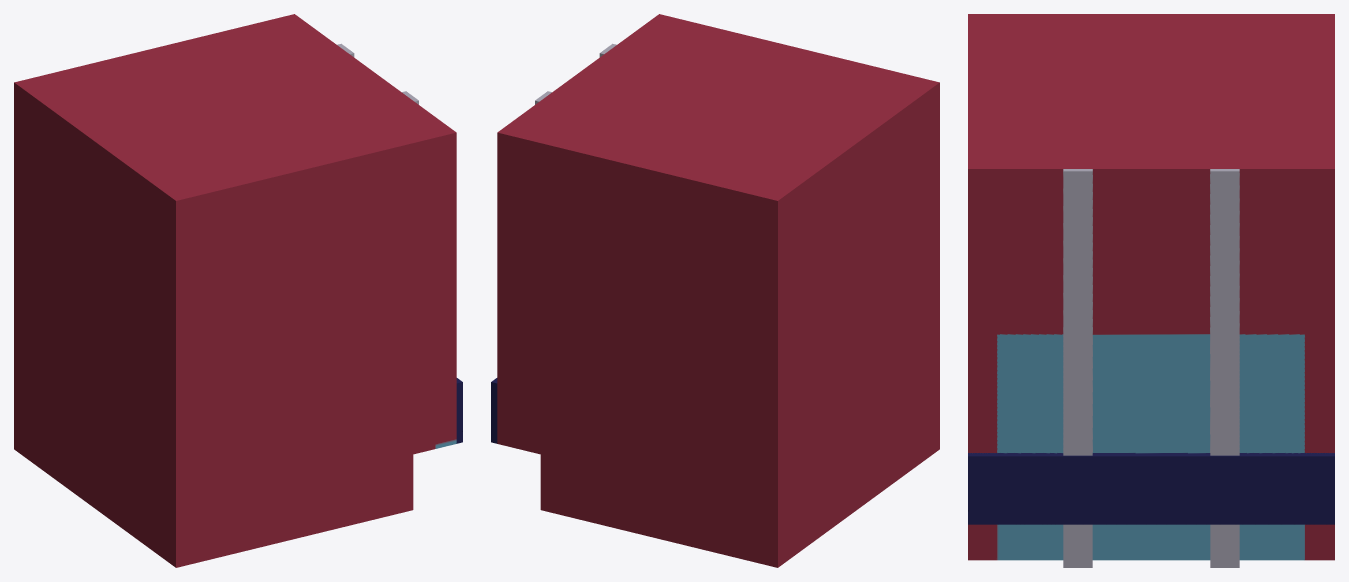
Rendered from Edificio_prime.fbx.
The picture shows the model from 3 angles, left to right: view 1: azimuth 30°, elevation 25°; view 2: azimuth 150°, elevation 25°; view 3: azimuth 270°, elevation 25°; orthographic projection. The views are drawn at different scales.
Visible parts, largest first — view 1: Edificio1; view 2: Edificio1; view 3: Edificio1.
Boxes of the visible parts, bbox=[...] form: Edificio1: bbox=[14, 14, 462, 567]; Edificio1: bbox=[491, 14, 939, 567]; Edificio1: bbox=[968, 14, 1334, 567].
Size of the model in its own units: 4088 by 5000 by 4000.
Materials: 1 (1 with a texture image).
